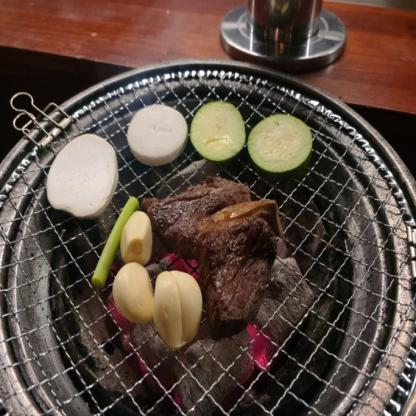Carne: (142, 172, 281, 326)
